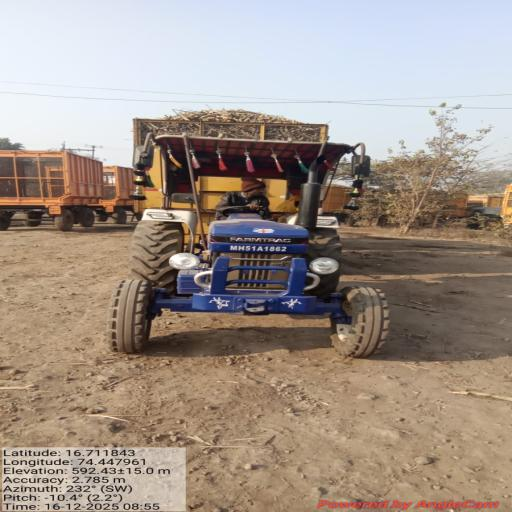number_plate: (216, 232, 309, 254)
